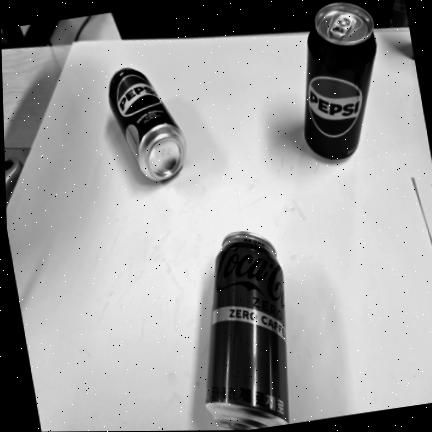can_coke_decaf: (205, 232, 289, 428)
can_pepsi: (305, 2, 377, 160)
can_pepsi_zero: (107, 68, 185, 181)
